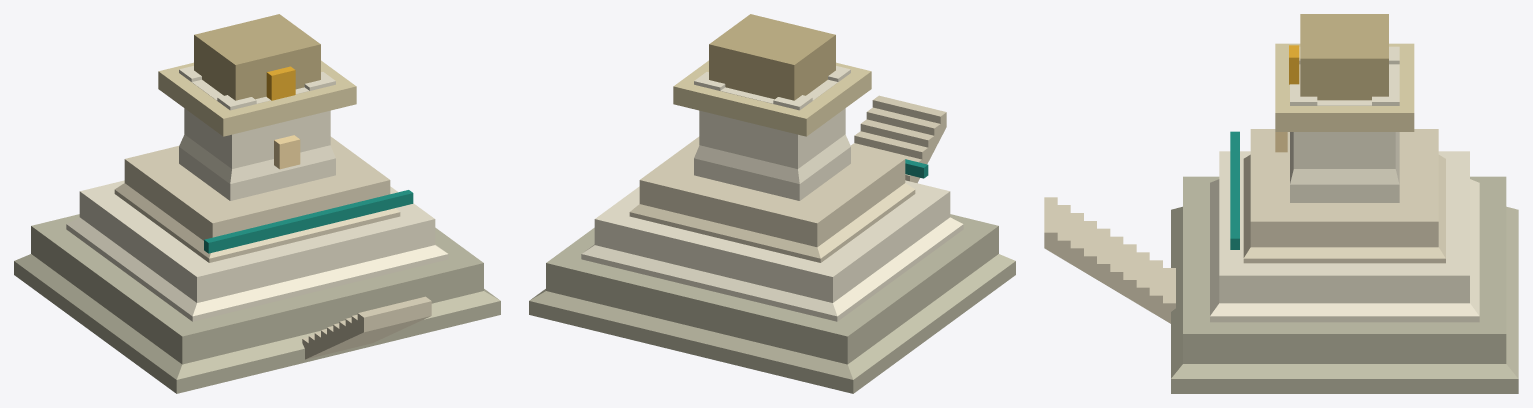
File: south_american-keep.glb
3 views of the same model, side by side, from view 1: azimuth 30°, elevation 25°; view 2: azimuth 150°, elevation 25°; view 3: azimuth 270°, elevation 25° (orthographic). The views are drawn at different scales.
Visible parts, largest first — view 1: body, glow; view 2: body; view 3: body.
Boxes of the visible parts, x1=… form: body: x1=14, y1=14, x2=500, y2=393; glow: x1=274, y1=135, x2=300, y2=169; body: x1=529, y1=14, x2=1015, y2=393; body: x1=1044, y1=14, x2=1518, y2=393.
Size of the model in its own units: 1.9 by 1.43 by 2.25.
